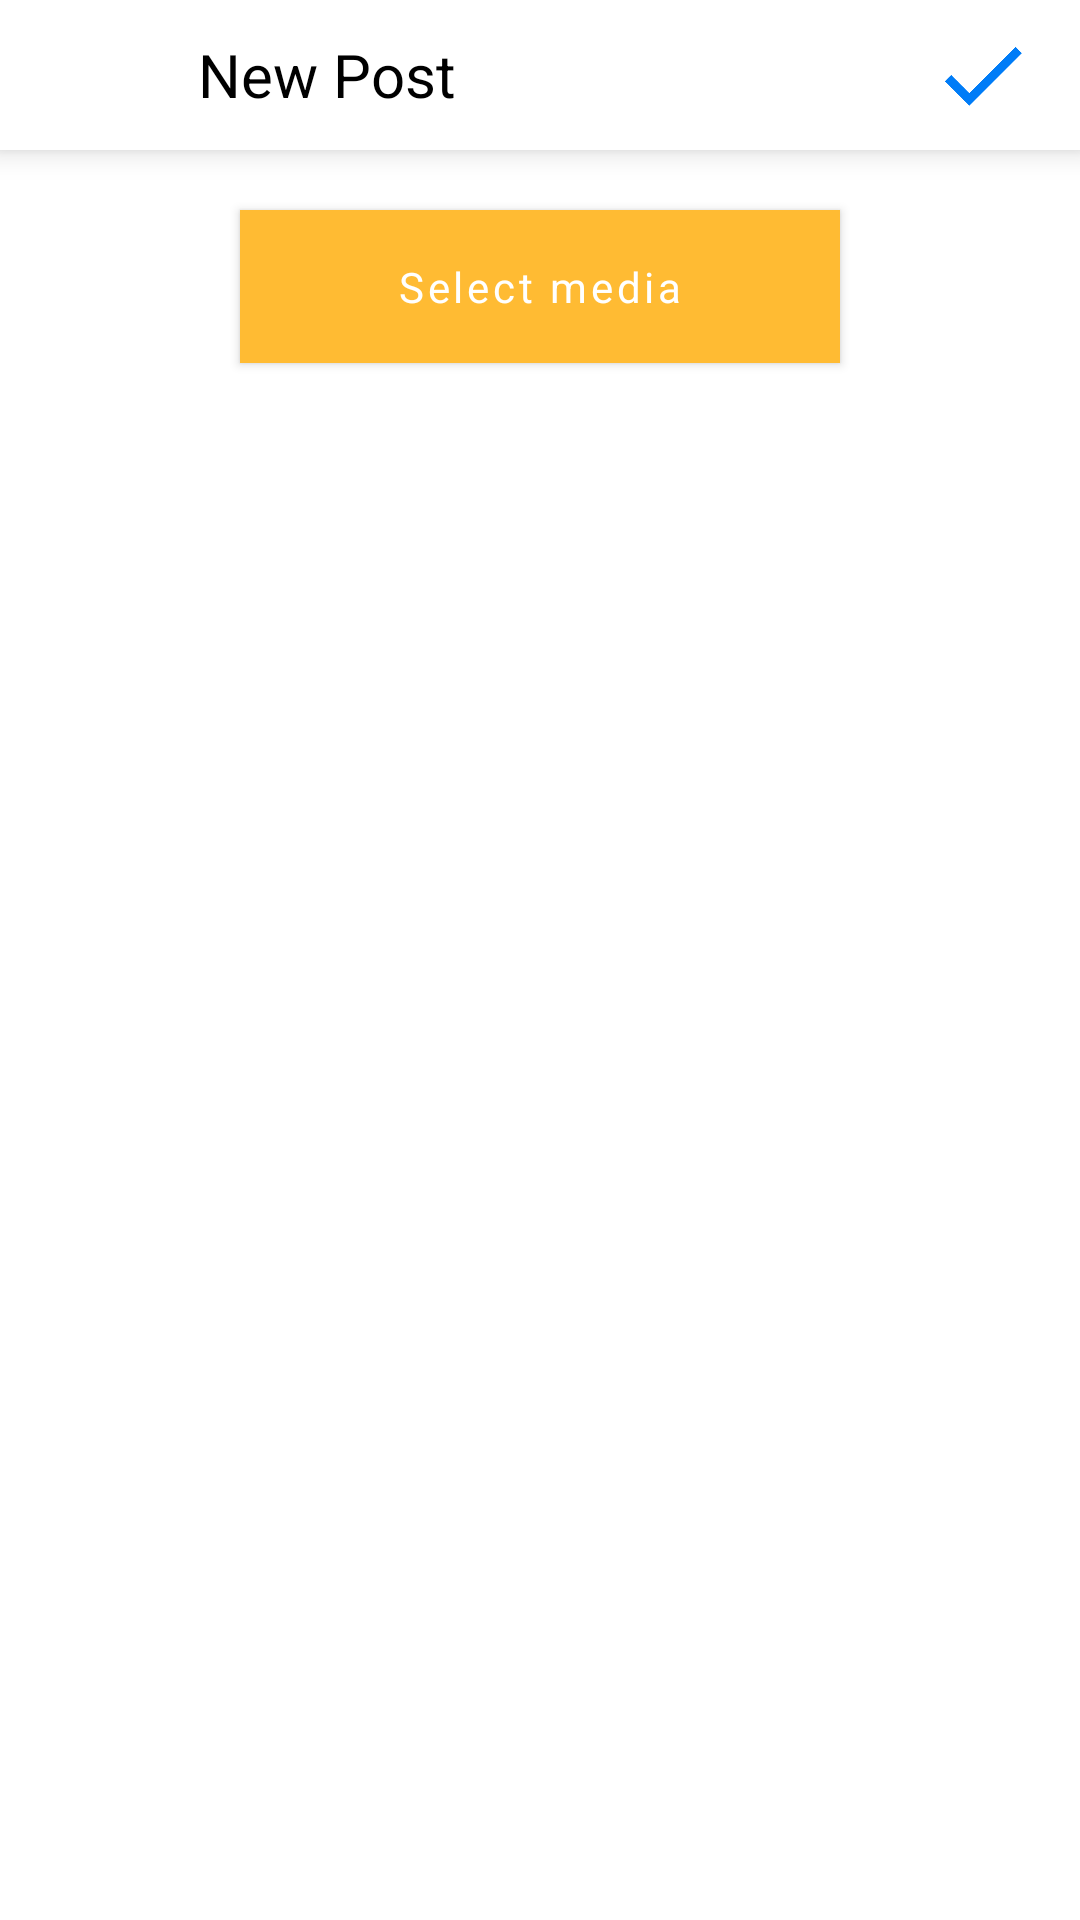

Where icons sit on this 1080w x 1920h app screen, as [x1, y1, x2, y2]:
check right: [945, 47, 1022, 106]
